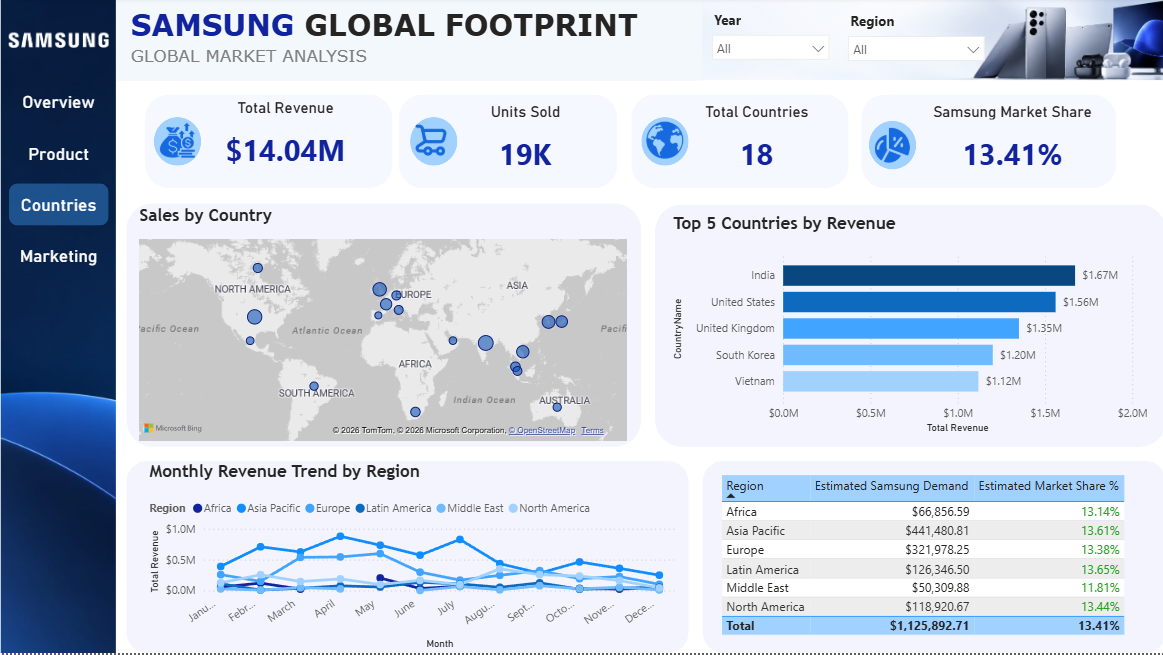

The page's visual inventory and layout, read from the dashboard file:
{"tool":"powerbi","page":{"name":"GLOBAL MARKET ANALYSIS","canvas":[1280,720],"ordinal":2},"visuals":[{"type":"shape","box":[771.2,509.1,509.1,211.3],"z":0},{"type":"shape","box":[719,227.8,561.2,266.2],"z":1000},{"type":"shape","box":[138.6,509.1,617.5,211.3],"z":2000},{"type":"shape","box":[138.6,226.4,565.4,267.6],"z":3000},{"type":"shape","box":[945.5,107,279.9,102.9],"z":4000},{"type":"shape","box":[693,107,238.8,102.9],"z":5000},{"type":"shape","box":[437.7,107,240.1,102.9],"z":6000},{"type":"shape","box":[159.2,107,271.7,102.9],"z":7000},{"type":"cardVisual","title":"Total Revenue","fields":{"Data":["Samsung_Countries.Total Revenue"]},"box":[196.2,111.1,234.6,96.1],"z":8000},{"type":"cardVisual","title":"Units Sold","fields":{"Data":["Samsung_Countries.Units Sold"]},"box":[476.2,115.3,201.7,94.7],"z":9000},{"type":"cardVisual","title":"Total Countries","fields":{"Data":["Samsung_Countries.Countries with Sales"]},"box":[730,115.3,201.7,94.7],"z":10000},{"type":"cardVisual","title":"Samsung Market Share","fields":{"Data":["Calendar.Estimated Market Share %"]},"box":[1000.3,115.3,222.3,94.7],"z":11000},{"type":"map","title":"Sales by Country","fields":{"Category":["Samsung_Countries.CountryName"],"Size":["Samsung_Countries.Total Revenue"]},"box":[148.2,227.8,544.8,264.8],"z":12000},{"type":"barChart","title":"Top 5 Countries by Revenue","fields":{"Category":["Samsung_Countries.CountryName"],"Y":["Samsung_Countries.Total Revenue"]},"box":[734.1,237.4,531,247],"z":13000},{"type":"lineChart","title":"Monthly Revenue Trend by Region","fields":{"Category":["Samsung_Sales.OrderDate.Variation.Date Hierarchy.Month","Samsung_Sales.OrderDate.Variation.Date Hierarchy.Day"],"Y":["Samsung_Countries.Total Revenue"],"Series":["Samsung_Countries.Region"]},"box":[159.2,509.1,587.3,211.3],"z":14000},{"type":"tableEx","title":"Average Selling Price by Category","fields":{"Values":["Samsung_Countries.Region","Calendar.Estimated Samsung Demand","Calendar.Estimated Market Share %"]},"box":[786.3,520.1,480.3,200.3],"z":15000},{"type":"image","box":[0,0,127.6,720.4],"z":16000},{"type":"image","box":[746.5,0,533.8,91.9],"z":17000},{"type":"shape","box":[127.6,0,643.6,91.9],"z":18000},{"type":"image","box":[9.6,20.6,109.8,53.5],"z":19000},{"type":"textbox","box":[138.6,5.5,743.7,64.5],"z":20000},{"type":"textbox","box":[138.6,48,299.1,43.9],"z":21000},{"type":"slicer","fields":{"Values":["Samsung_Sales.OrderDate.Variation.Date Hierarchy.Year"]},"box":[771.2,9.6,149.6,70],"z":22000},{"type":"slicer","fields":{"Values":["Samsung_Countries.Region"]},"box":[920.8,11,170.2,72.7],"z":23000},{"type":"actionButton","box":[9.6,91.9,109.8,46.7],"z":24000},{"type":"actionButton","box":[9.6,148.2,109.8,46.7],"z":25000},{"type":"actionButton","box":[9.6,204.5,109.8,46.7],"z":26000},{"type":"actionButton","box":[9.6,260.7,109.8,46.7],"z":27000},{"type":"shape","box":[168.8,131.7,52.1,53.5],"z":28000},{"type":"shape","box":[450.1,131.7,52.1,53.5],"z":29000},{"type":"shape","box":[703.9,131.7,52.1,53.5],"z":30000},{"type":"shape","box":[953.7,135.8,52.1,53.5],"z":31000},{"type":"image","box":[174.3,130.4,41.2,53.5],"z":32000},{"type":"image","box":[452.8,130.4,41.2,53.5],"z":33000},{"type":"image","box":[709.4,130.4,41.2,53.5],"z":34000},{"type":"image","box":[959.2,135.8,41.2,53.5],"z":35000}]}

Visuals, with their boxes on the page's 1280x720 design canvas (x1, y1, x2, y2). These are canvas units, not pixel positions in the 1163x655 screenshot, which may show the page scaled, cropped or inside an application window:
shape: select_region(771, 509, 1280, 720)
shape: select_region(719, 228, 1280, 494)
shape: select_region(139, 509, 756, 720)
shape: select_region(139, 226, 704, 494)
shape: select_region(946, 107, 1225, 210)
shape: select_region(693, 107, 932, 210)
shape: select_region(438, 107, 678, 210)
shape: select_region(159, 107, 431, 210)
"Total Revenue" cardVisual: select_region(196, 111, 431, 207)
"Units Sold" cardVisual: select_region(476, 115, 678, 210)
"Total Countries" cardVisual: select_region(730, 115, 932, 210)
"Samsung Market Share" cardVisual: select_region(1000, 115, 1223, 210)
"Sales by Country" map: select_region(148, 228, 693, 493)
"Top 5 Countries by Revenue" barChart: select_region(734, 237, 1265, 484)
"Monthly Revenue Trend by Region" lineChart: select_region(159, 509, 746, 720)
"Average Selling Price by Category" tableEx: select_region(786, 520, 1267, 720)
image: select_region(0, 0, 128, 720)
image: select_region(746, 0, 1280, 92)
shape: select_region(128, 0, 771, 92)
image: select_region(10, 21, 119, 74)
textbox: select_region(139, 6, 882, 70)
textbox: select_region(139, 48, 438, 92)
slicer - Samsung_Sales.OrderDate.Variation.Date Hierarchy.Year: select_region(771, 10, 921, 80)
slicer - Samsung_Countries.Region: select_region(921, 11, 1091, 84)
actionButton: select_region(10, 92, 119, 139)
actionButton: select_region(10, 148, 119, 195)
actionButton: select_region(10, 204, 119, 251)
actionButton: select_region(10, 261, 119, 307)
shape: select_region(169, 132, 221, 185)
shape: select_region(450, 132, 502, 185)
shape: select_region(704, 132, 756, 185)
shape: select_region(954, 136, 1006, 189)
image: select_region(174, 130, 216, 184)
image: select_region(453, 130, 494, 184)
image: select_region(709, 130, 751, 184)
image: select_region(959, 136, 1000, 189)
